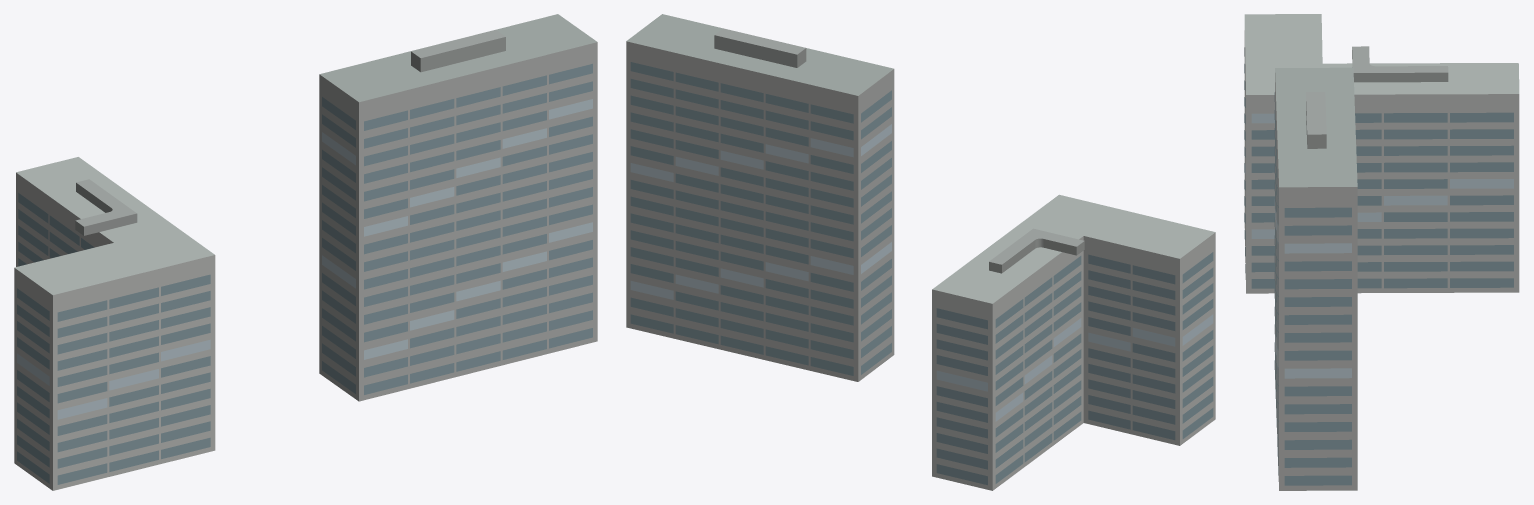
File: apt-a13075405.glb
3 renders of one model, left to right at view 1: azimuth 30°, elevation 25°; view 2: azimuth 150°, elevation 25°; view 3: azimuth 270°, elevation 25°, orthographic. The views are drawn at different scales.
Visible parts, largest first — view 1: apt-a13075405; view 2: apt-a13075405; view 3: apt-a13075405.
Boxes of the visible parts, x1,y1,x2,y2 form: apt-a13075405: (14,14,597,490); apt-a13075405: (626,14,1215,490); apt-a13075405: (1244,14,1519,490).
Size of the model in its own units: 97.73 by 52 by 40.83.
